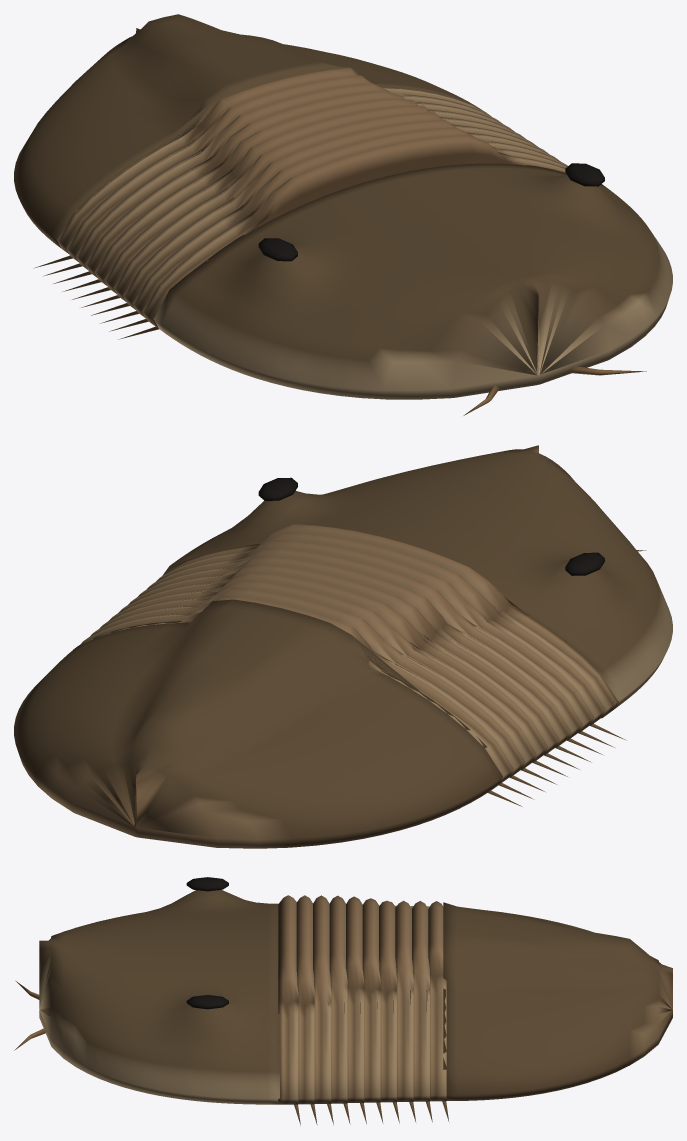
Rendered from BumastusBarriensis.fbx.
3 renders of one model, top to bottom at view 1: azimuth 30°, elevation 25°; view 2: azimuth 150°, elevation 25°; view 3: azimuth 270°, elevation 25°, orthographic. The views are drawn at different scales.
Visible parts, largest first — view 1: BumastusBarriensis; view 2: BumastusBarriensis; view 3: BumastusBarriensis.
Boxes of the visible parts, x1=… form: BumastusBarriensis: x1=14, y1=14, x2=672, y2=415; BumastusBarriensis: x1=14, y1=445, x2=672, y2=848; BumastusBarriensis: x1=14, y1=877, x2=672, y2=1125.
Bounding box in the file's own units: 1.1 × 0.2805 × 1.56.
